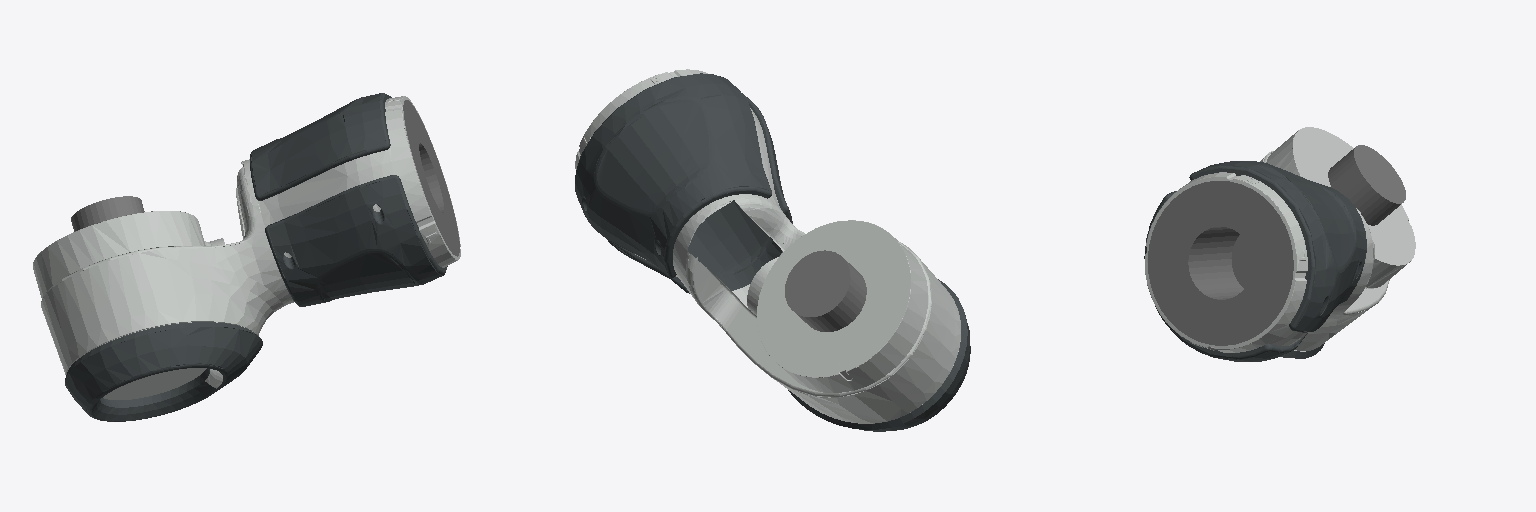
The model's file is IRB14000_rev00_Link2_L.obj.
3 views of the same model, side by side, from view 1: azimuth 30°, elevation 25°; view 2: azimuth 150°, elevation 25°; view 3: azimuth 270°, elevation 25° (orthographic).
Parts seen in each view (by area): view 1: Link2_L3.0-1, Link2_L3.0-2, Link2_L3.0; view 2: Link2_L3.0-1, Link2_L3.0-2, Link2_L3.0; view 3: Link2_L3.0, Link2_L3.0-1, Link2_L3.0-2.
Boxes of the visible parts, x1,y1,x2,y2 form: Link2_L3.0-1: [33, 96, 460, 399]; Link2_L3.0-2: [65, 93, 447, 421]; Link2_L3.0: [71, 100, 459, 256]; Link2_L3.0-1: [575, 69, 960, 423]; Link2_L3.0-2: [575, 73, 970, 431]; Link2_L3.0: [785, 250, 866, 331]; Link2_L3.0: [1148, 145, 1405, 345]; Link2_L3.0-1: [1145, 127, 1415, 352]; Link2_L3.0-2: [1144, 161, 1366, 361].
Size of the model in its own units: 0.2382 by 0.1688 by 0.1478.